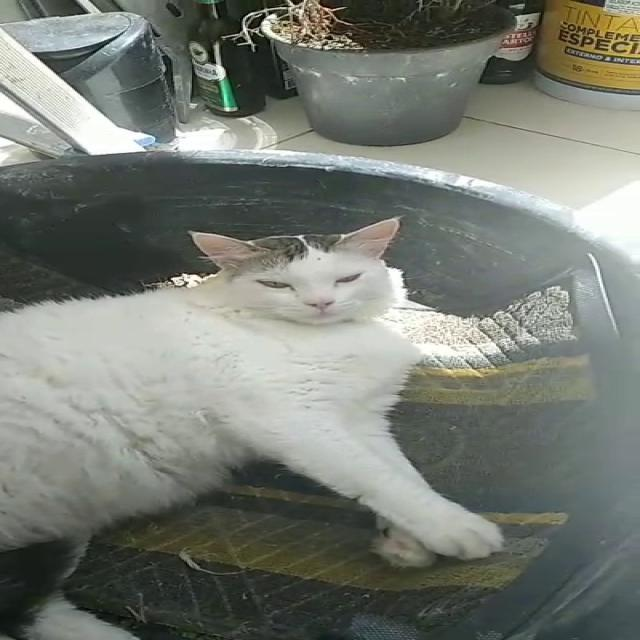Simba: (0, 205, 515, 639)
